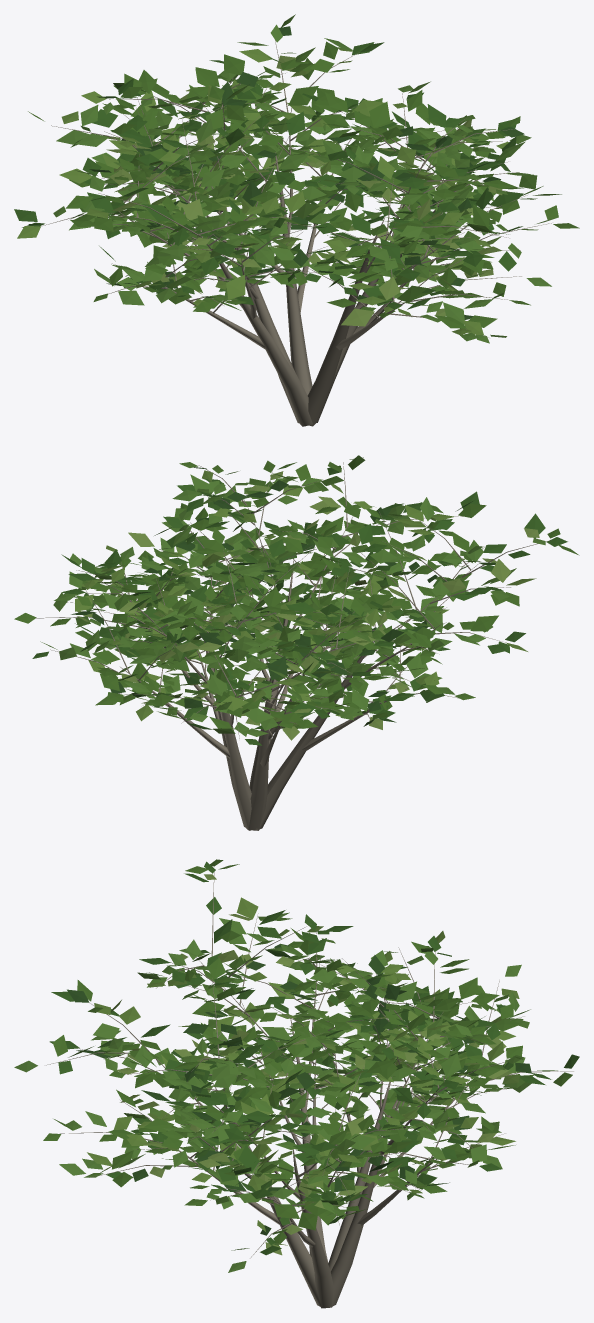
Rendered from shrub_06.glb.
3 renders of one model, top to bottom at view 1: azimuth 30°, elevation 25°; view 2: azimuth 150°, elevation 25°; view 3: azimuth 270°, elevation 25°, orthographic. The views are drawn at different scales.
Visible parts, largest first — view 1: Shrub_06_foliage, Shrub_06_stems; view 2: Shrub_06_foliage, Shrub_06_stems; view 3: Shrub_06_foliage, Shrub_06_stems.
Boxes of the visible parts, left/top/right/bottom form: Shrub_06_foliage: left=14, top=14, right=579, bottom=343; Shrub_06_stems: left=39, top=40, right=551, bottom=426; Shrub_06_foliage: left=14, top=455, right=579, bottom=745; Shrub_06_stems: left=36, top=462, right=551, bottom=830; Shrub_06_foliage: left=14, top=859, right=579, bottom=1272; Shrub_06_stems: left=46, top=866, right=573, bottom=1308.
Size of the model in its own units: 1.88 by 1.23 by 1.92.
